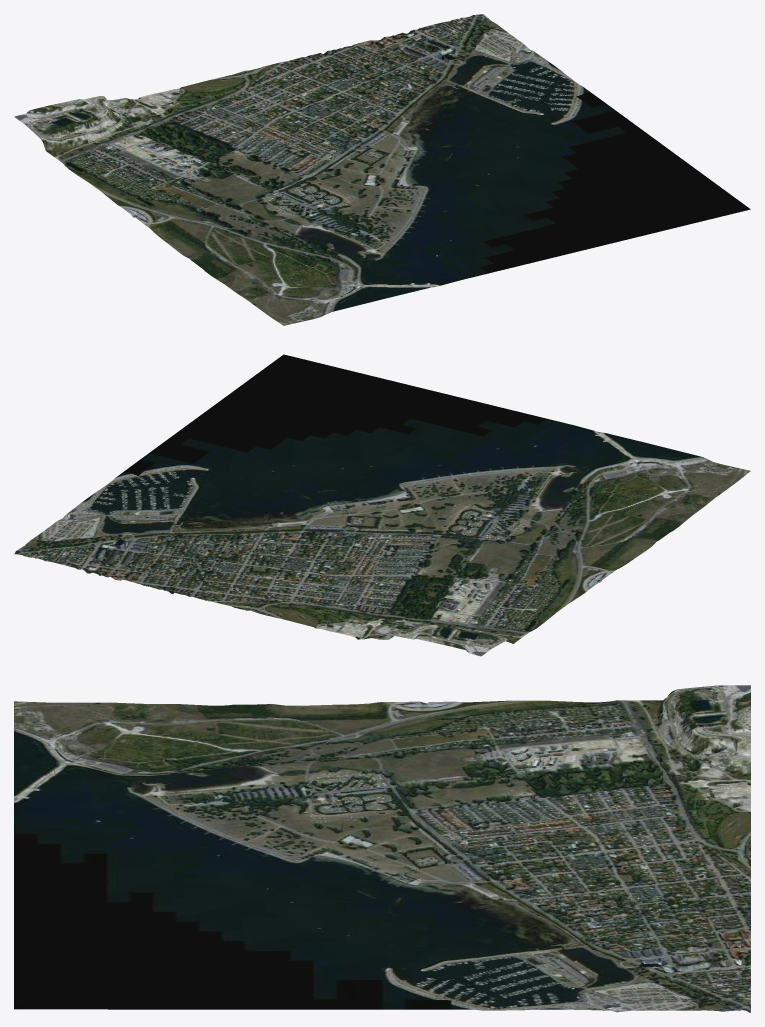
Rendered from map_10_249_422.dae.
The picture shows the model from 3 angles, top to bottom: view 1: azimuth 30°, elevation 25°; view 2: azimuth 150°, elevation 25°; view 3: azimuth 270°, elevation 25°; orthographic projection. The views are drawn at different scales.
Parts seen in each view (by area): view 1: Ter0; view 2: Ter0; view 3: Ter0.
Boxes of the visible parts, x1,y1,x2,y2 form: Ter0: (14,14,750,325); Ter0: (14,354,750,656); Ter0: (14,685,750,1012).
Size of the model in its own units: 2044 by 2044 by 88.99.
Materials: 3 (3 with a texture image).
